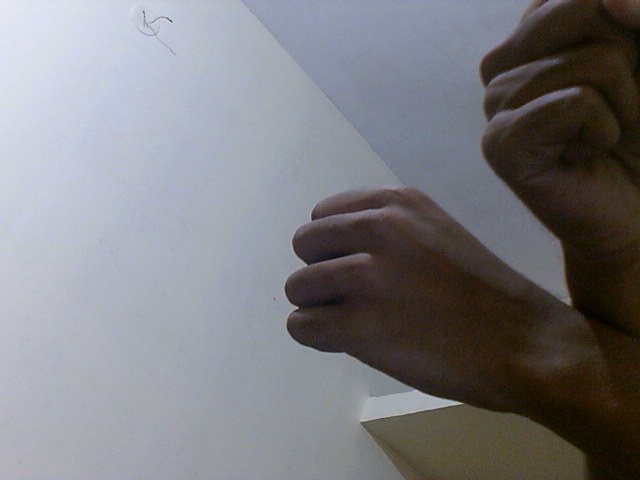hand: (282, 183, 573, 429), (472, 1, 640, 271)
